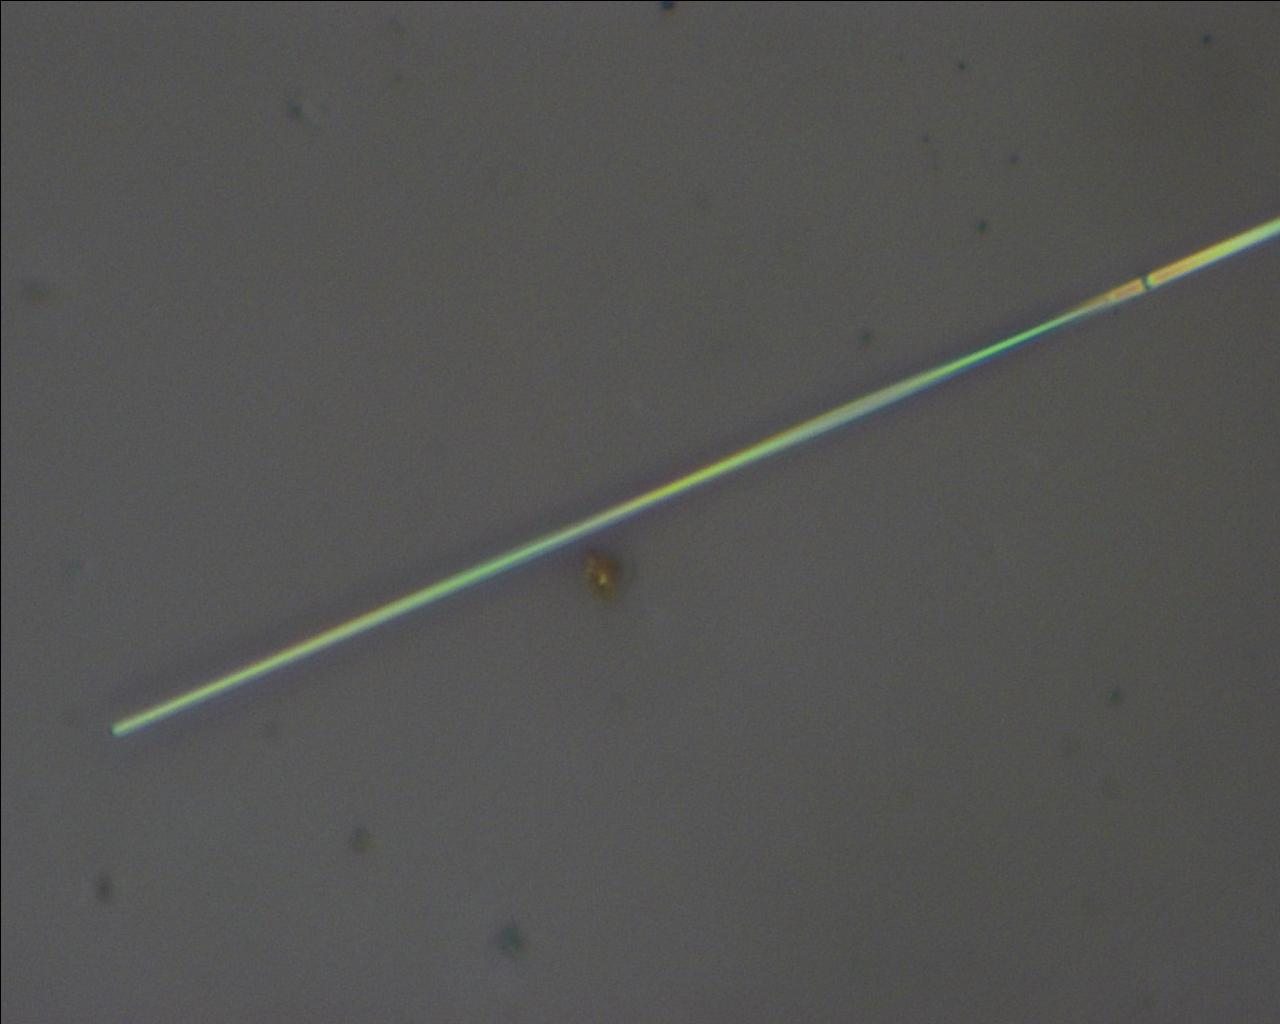fiber: (0, 146, 515, 283)
